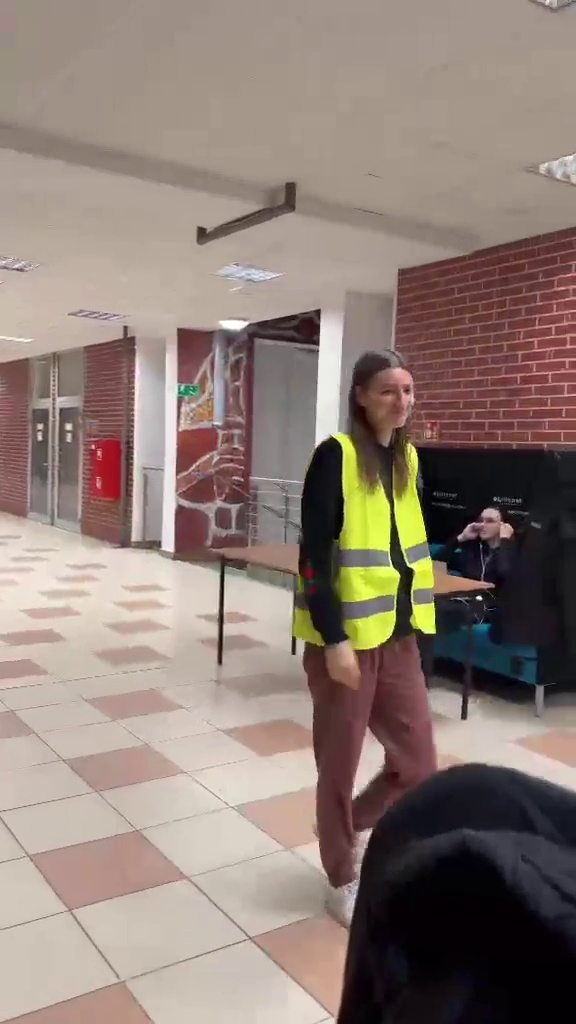no vest: (441, 497, 516, 643)
vest: (291, 342, 458, 916)
